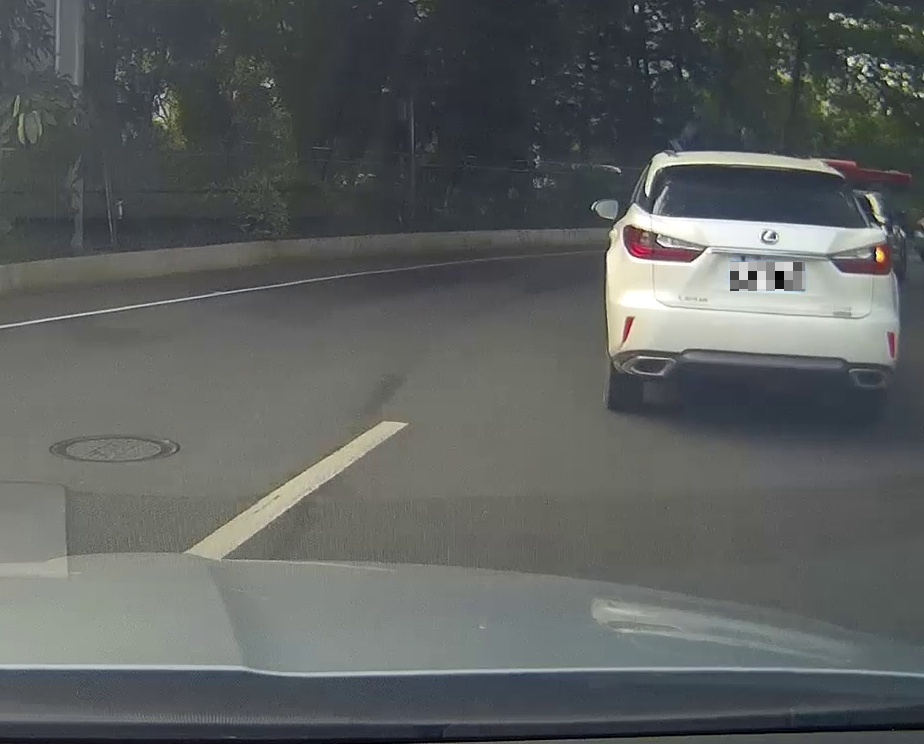L_light: (622, 224, 708, 263)
R_light: (826, 240, 893, 275)
T_light: (730, 163, 791, 174)
day-right: (606, 152, 900, 420)
plate_1: (730, 262, 805, 291)
